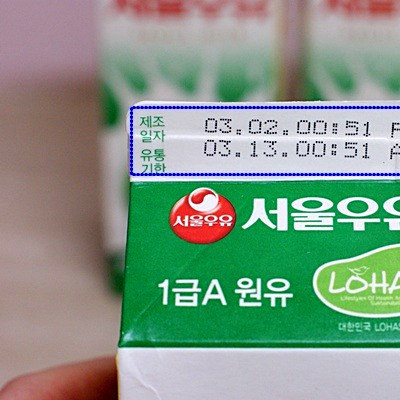milk: (112, 100, 400, 398)
